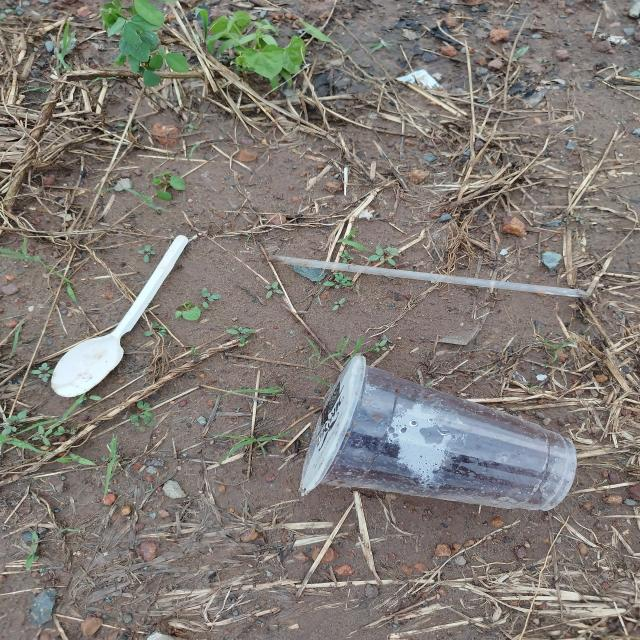drinking straw: (269, 256, 589, 298)
plastic glass: (298, 355, 576, 513)
plastic utensil: (49, 235, 190, 398)
